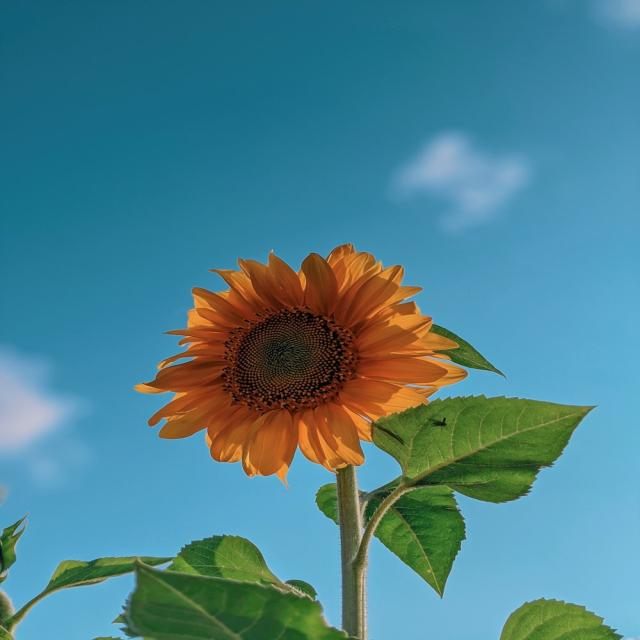sunflower: (127, 234, 476, 496)
